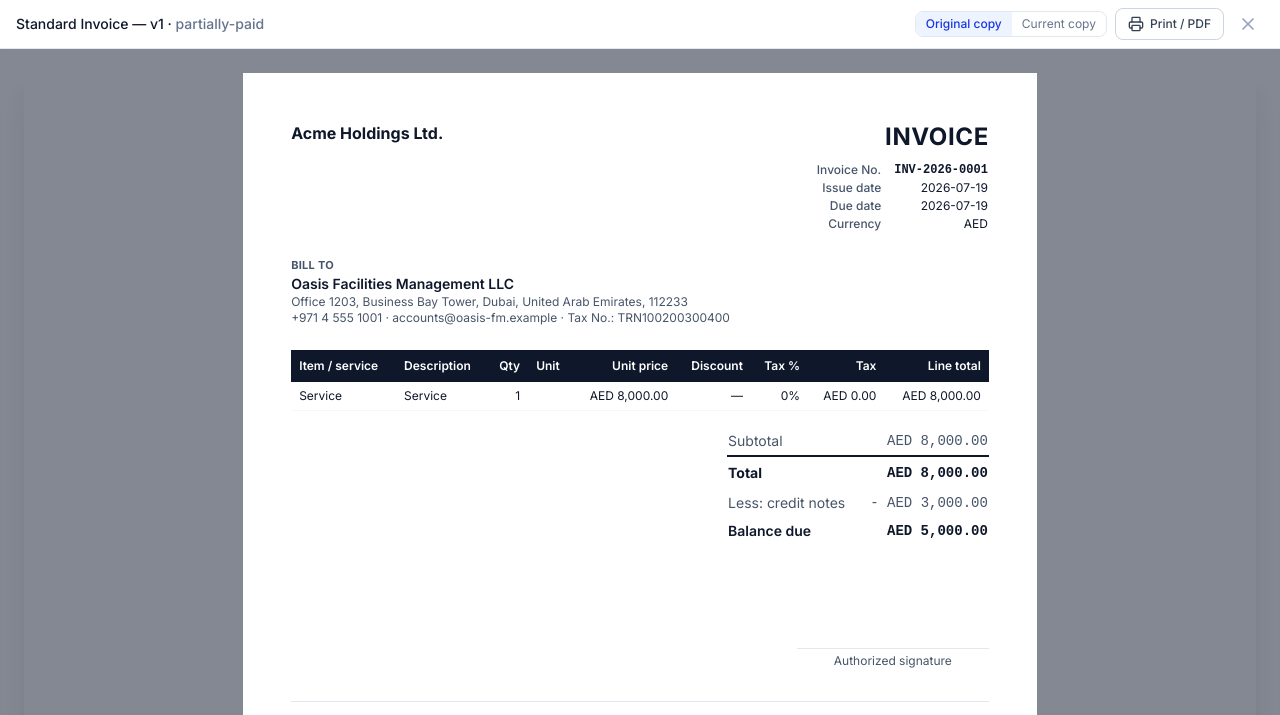
Test: InvoicePreviewModal — copy mode wiring › Current copy shows the panel with original total, the credit note deduction and the revised balance (zero payment does not suppress it)
This screenshot has width=1280, height=715.
Toggle to Current copy.
Click the button "Current copy": {"x": 1059, "y": 24} [1012,12,1106,36]
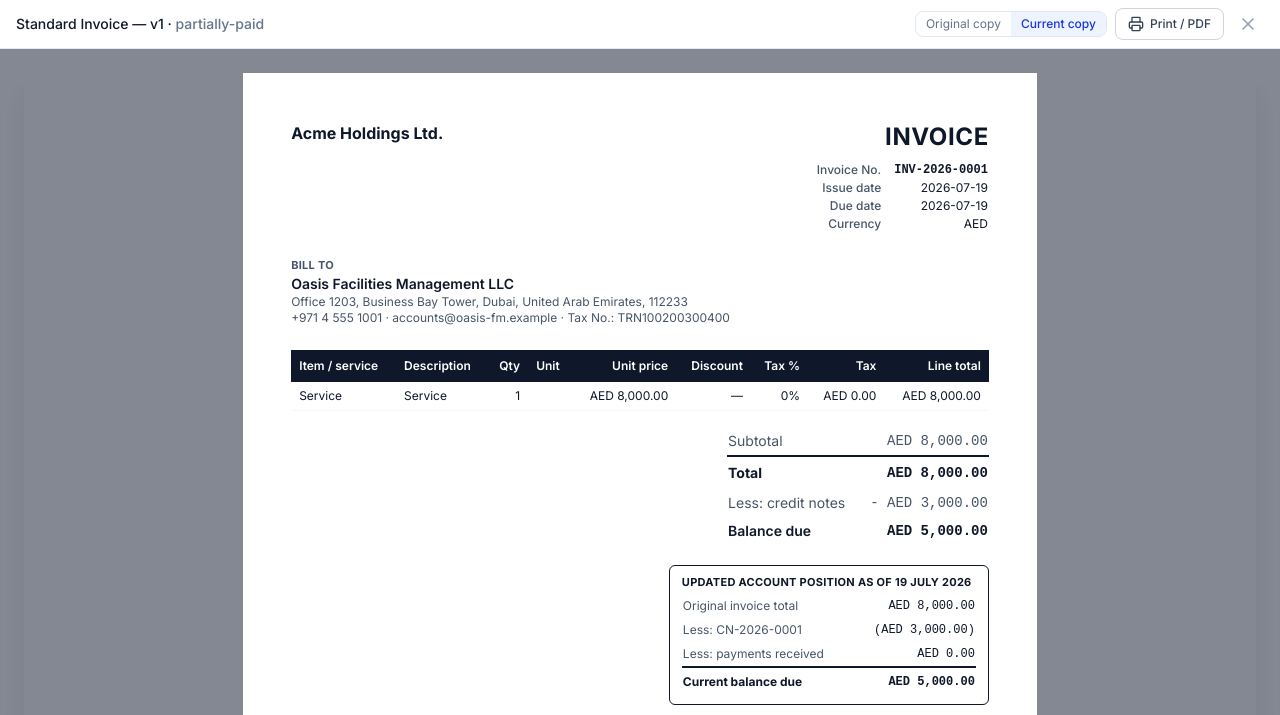
Check: the text "Updated account position as of 19 July 2026" is shown, box [682,574,976,590]
Check: the text "Less: CN-2026-0001" is shown, box [682,618,863,642]
Check: the text "Current balance due" is shown, box [682,667,863,696]
